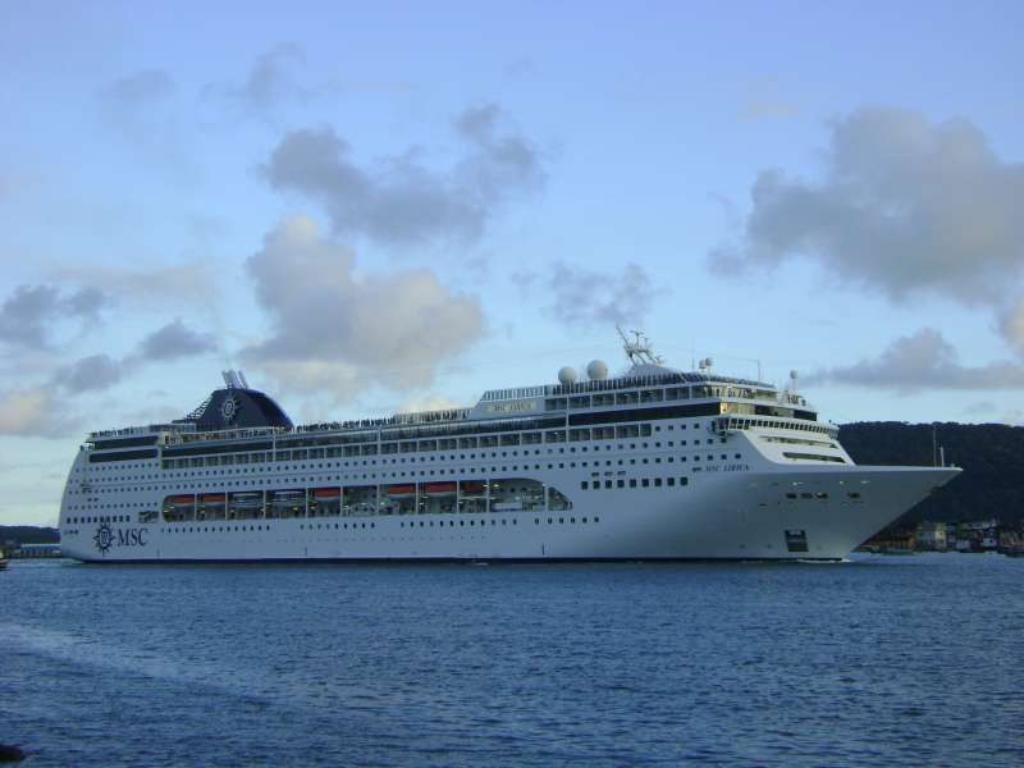PassengerShip: (46, 342, 970, 570)
